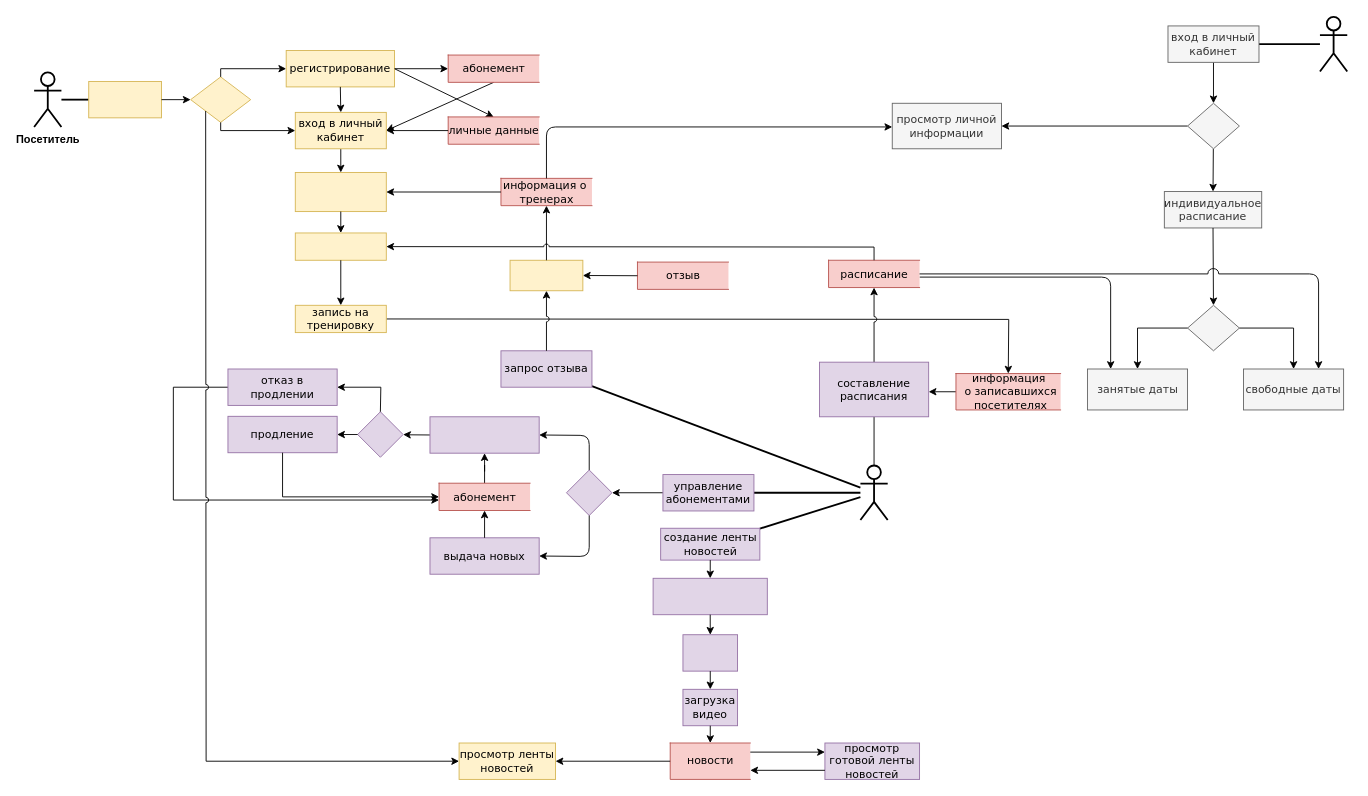
The diagram is 1368 pixels wide and 796 high, and some of its shapes have lost their labels. Each missing label, with the centre of its shape:
"Администратор" belongs at point (873, 492).
"вход на сайт" belongs at point (125, 99).
"загрузка фото" belongs at point (710, 652).
"написание отзыва" belongs at point (546, 275).
"продление старых" belongs at point (484, 434).
"просмотр расписания тренировок" belongs at point (340, 192).
"просмотр свободных дат" belongs at point (340, 246).
"создание спец.предложений" belongs at point (709, 596).
"Тренер" belongs at point (1333, 43).
